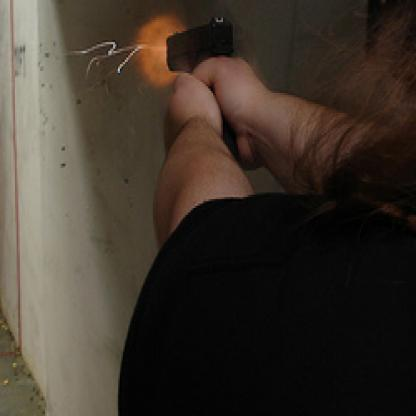gun: (156, 7, 253, 146)
